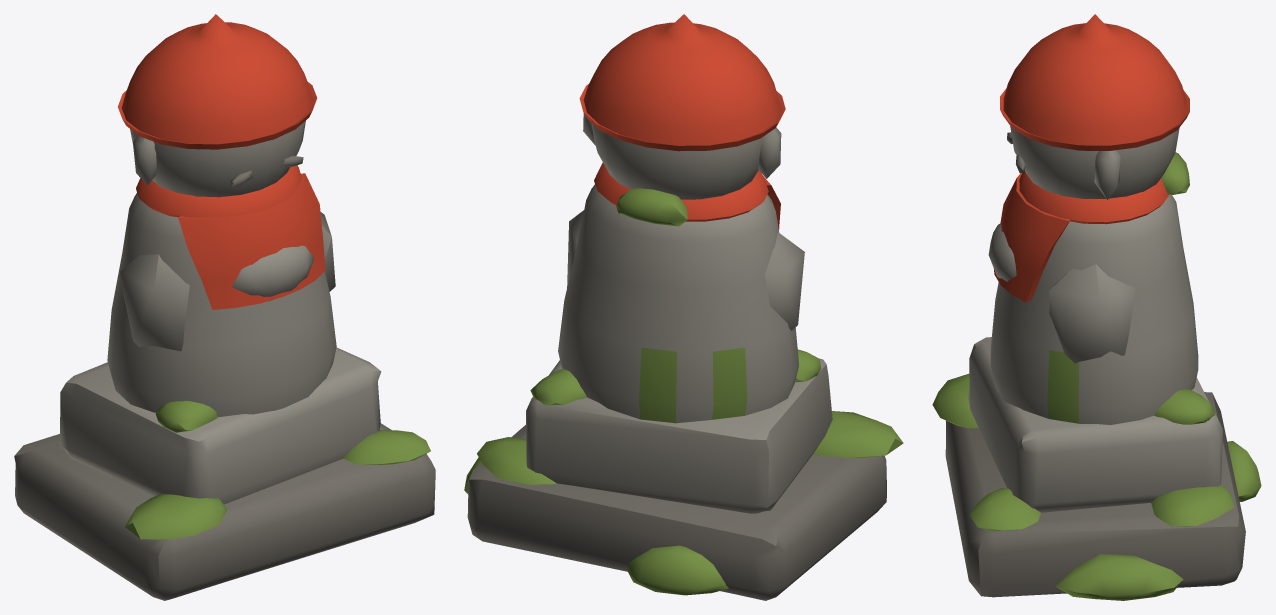
Rendered from jizo.glb.
3 renders of one model, left to right at view 1: azimuth 30°, elevation 25°; view 2: azimuth 150°, elevation 25°; view 3: azimuth 270°, elevation 25°, orthographic.
Visible parts, largest first — view 1: jizo; view 2: jizo; view 3: jizo.
Part boxes in pixels (box(x1,y1,x2,y2)): jizo: box(14, 14, 435, 600); jizo: box(464, 14, 903, 600); jizo: box(932, 14, 1261, 600).
Size of what is drawn, in the model's own units: 0.6434 by 0.9158 by 0.5289.
